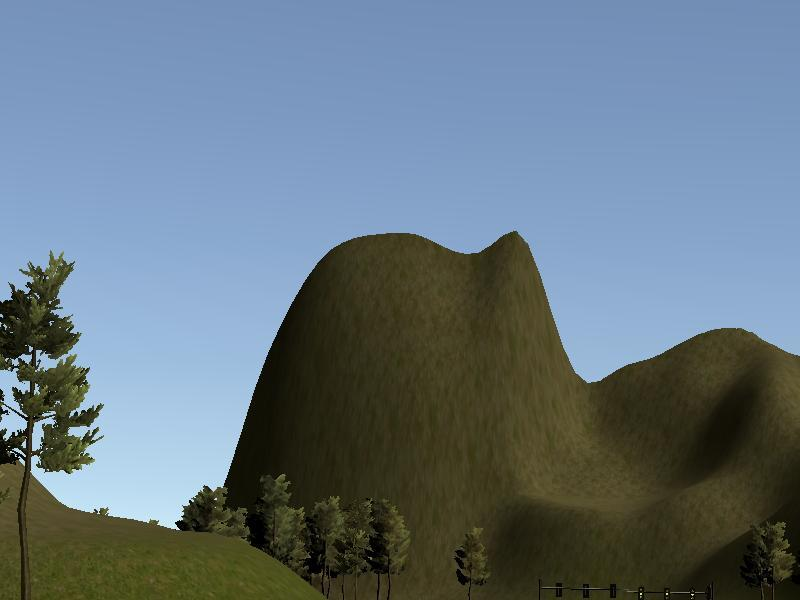Yellow: (663, 586, 671, 600), (689, 586, 697, 600), (638, 586, 645, 600)
